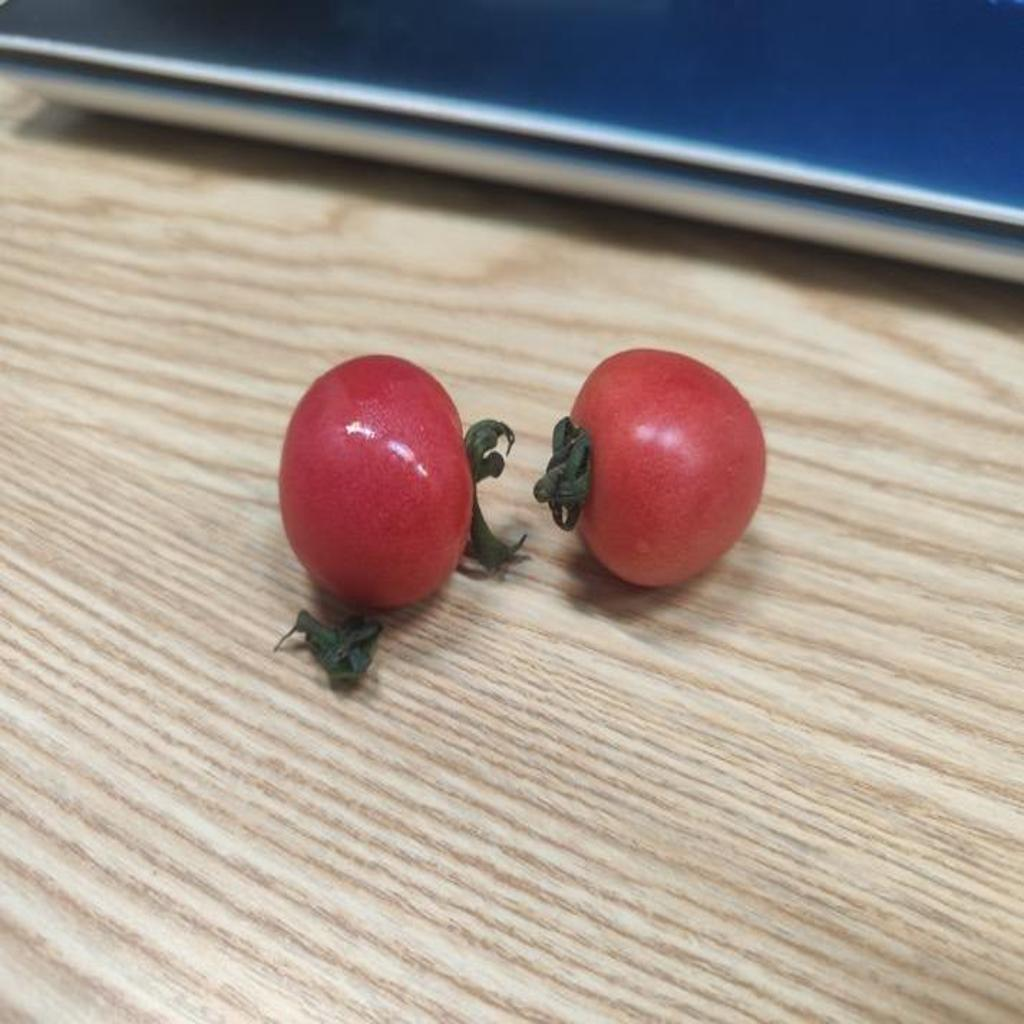tomato: (268, 347, 482, 616), (547, 335, 773, 589)
